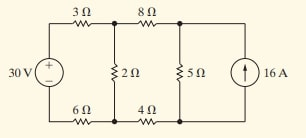current: (227, 55, 263, 92)
dc: (33, 56, 66, 89)
resistor: (66, 18, 99, 31), (135, 17, 160, 31), (108, 60, 121, 85), (173, 61, 186, 85), (135, 116, 162, 127), (71, 116, 95, 127)
